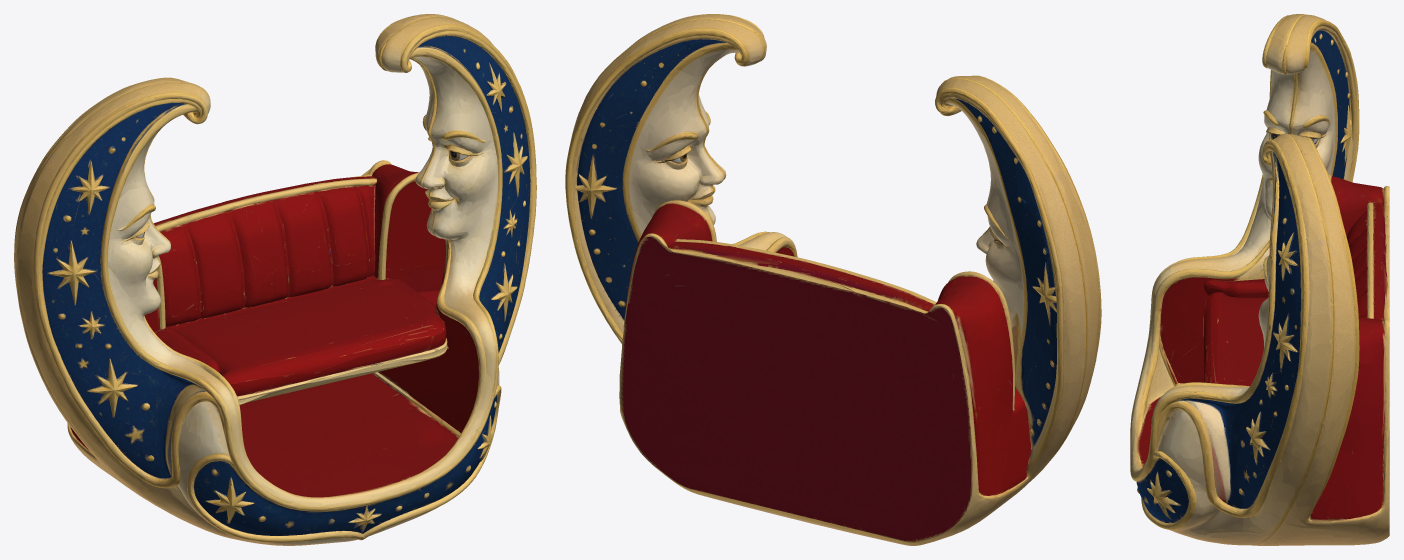
Rendered from moon-loveseat.glb.
The picture shows the model from 3 angles, left to right: view 1: azimuth 30°, elevation 25°; view 2: azimuth 150°, elevation 25°; view 3: azimuth 270°, elevation 25°; orthographic projection. The views are drawn at different scales.
Bounding box in the file's own units: 1.9 × 1.59 × 0.8783.
Materials: 1 (1 with a texture image).
